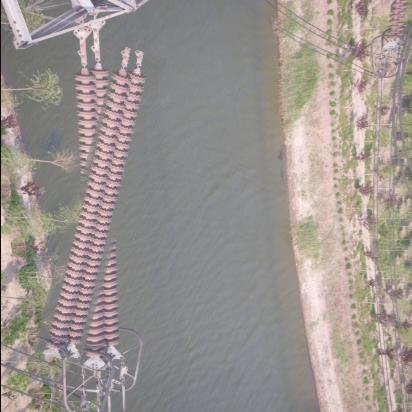insulator: (53, 47, 145, 365)
